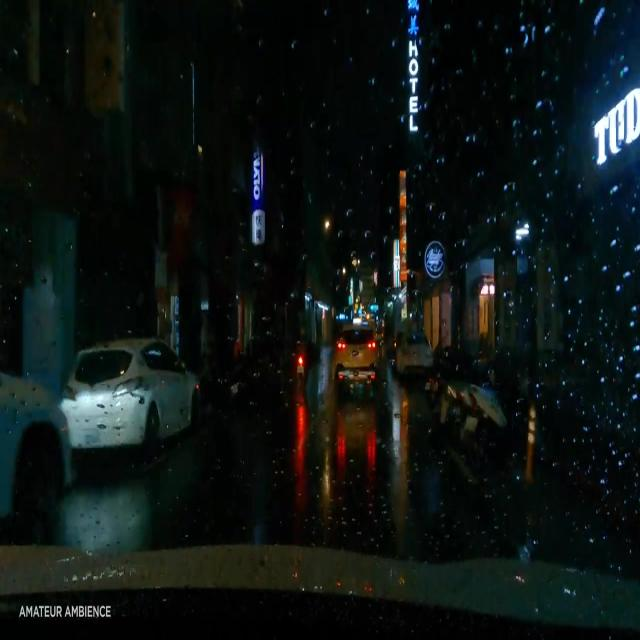Car: (62, 338, 198, 455), (0, 376, 68, 549), (335, 321, 378, 386), (391, 330, 431, 378)
